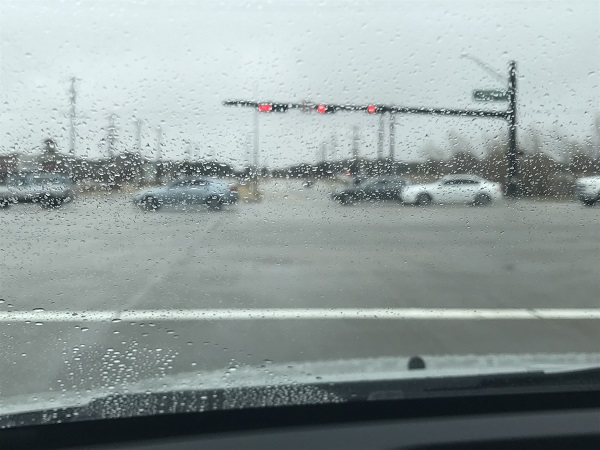car: (131, 173, 238, 209), (399, 171, 501, 205), (1, 173, 70, 207), (331, 173, 409, 202)
